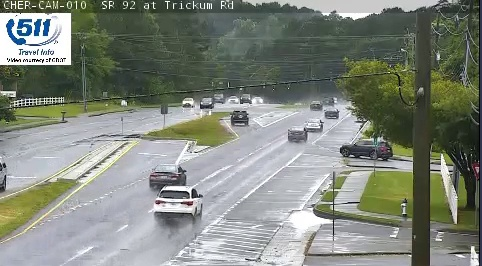car: (153, 187, 203, 219), (149, 164, 186, 186), (288, 126, 307, 142), (303, 119, 323, 133), (231, 110, 249, 124), (323, 107, 339, 120)
